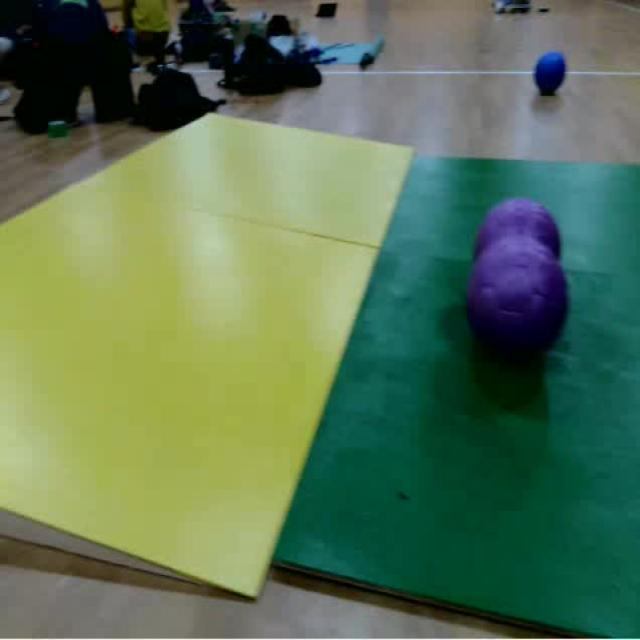blue_ball: (532, 48, 570, 99)
purple_ball: (470, 242, 570, 376), (470, 194, 570, 245)
